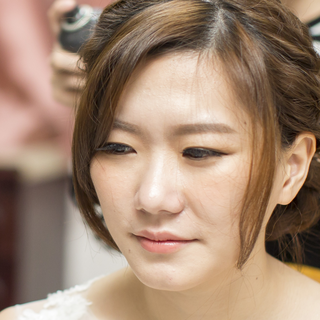eye: (177, 141, 231, 165), (97, 138, 141, 160)
